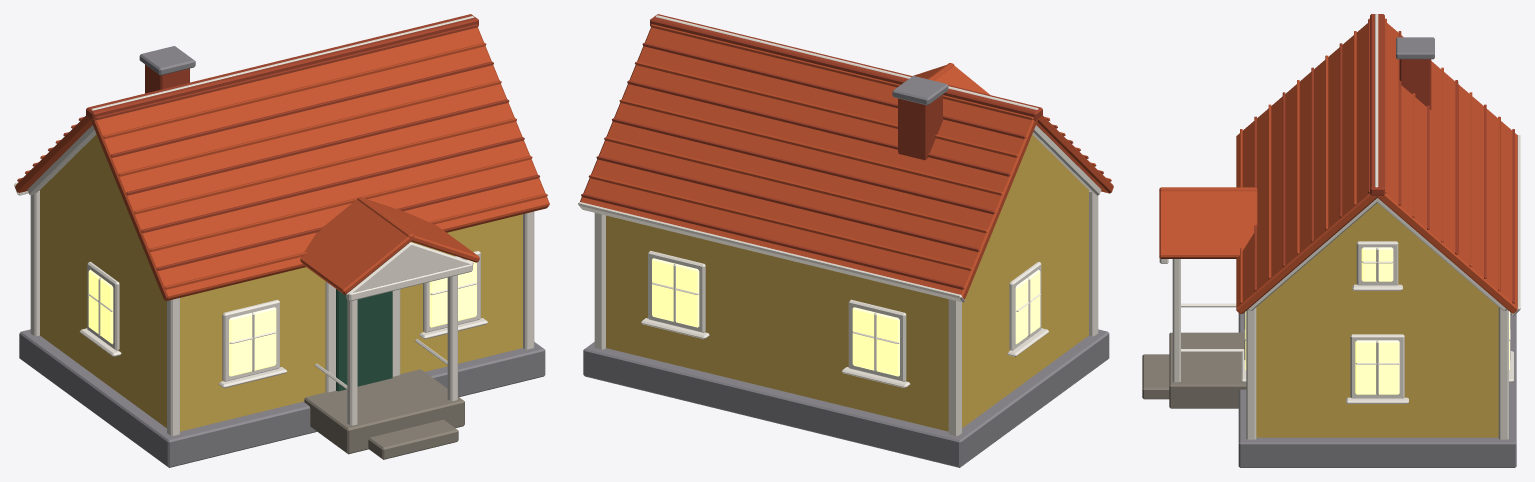
The model's file is gulstuga.glb.
The picture shows the model from 3 angles, left to right: view 1: azimuth 30°, elevation 25°; view 2: azimuth 150°, elevation 25°; view 3: azimuth 270°, elevation 25°; orthographic projection. The views are drawn at different scales.
Visible parts, largest first — view 1: gulstuga; view 2: gulstuga; view 3: gulstuga.
Part boxes in pixels (x1,y1,x2,y2): gulstuga: (14, 14, 549, 467); gulstuga: (578, 14, 1113, 467); gulstuga: (1142, 14, 1520, 467).
Bounding box in the file's own units: 6.55 × 5.16 × 5.99.
